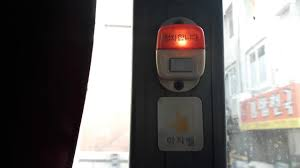bell: (156, 17, 208, 93)
